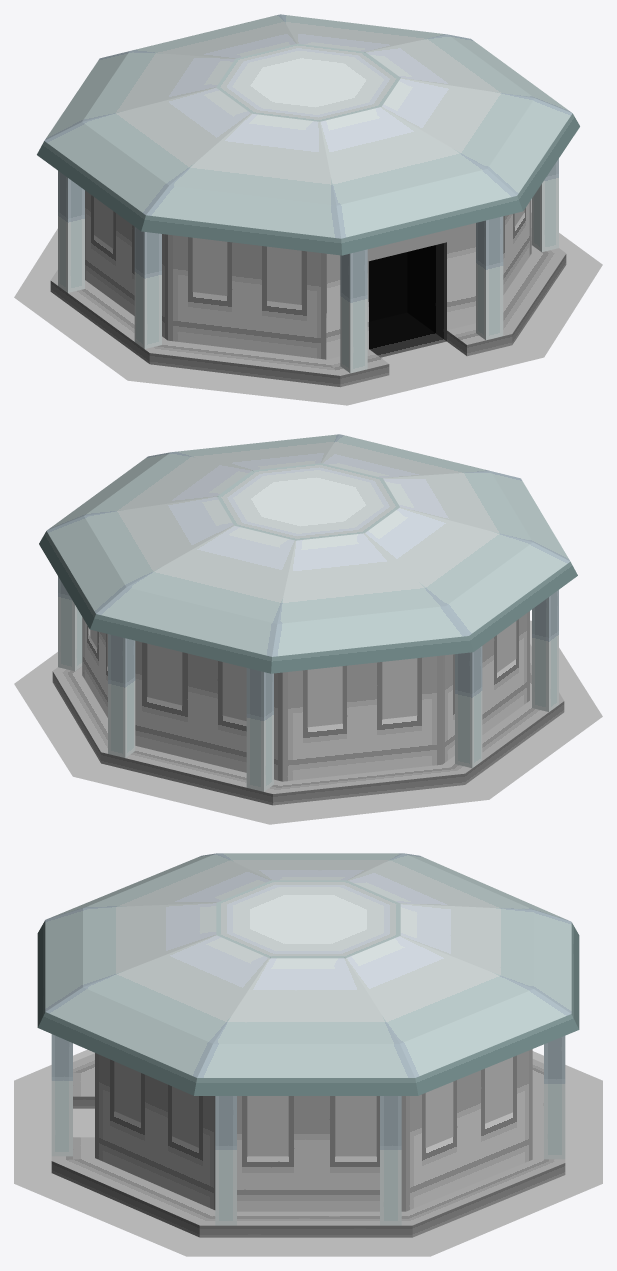
3 renders of one model, top to bottom at view 1: azimuth 30°, elevation 25°; view 2: azimuth 150°, elevation 25°; view 3: azimuth 270°, elevation 25°, orthographic. The views are drawn at different scales.
Visible parts, largest first — view 1: c6_airport_01; view 2: c6_airport_01; view 3: c6_airport_01.
Part boxes in pixels (x1,y1,x2,y2): c6_airport_01: (14, 14, 602, 405); c6_airport_01: (14, 434, 602, 824); c6_airport_01: (14, 853, 602, 1256).
Size of the model in its own units: 168 by 67.11 by 168.
